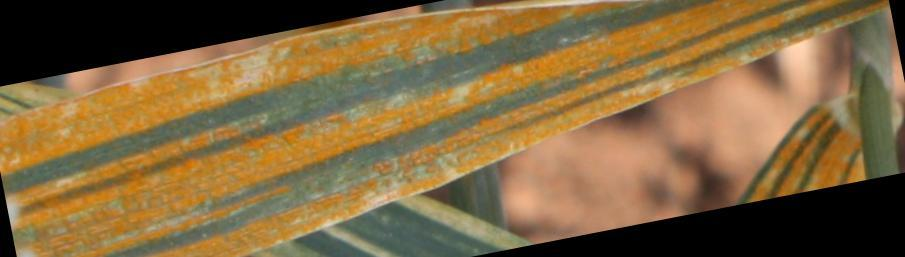Wheat: (19, 120, 162, 257), (334, 30, 451, 175), (171, 75, 264, 252), (458, 15, 563, 128), (274, 49, 325, 224), (645, 0, 778, 48), (570, 7, 637, 95), (795, 134, 860, 179), (116, 89, 168, 116), (642, 53, 699, 75)
